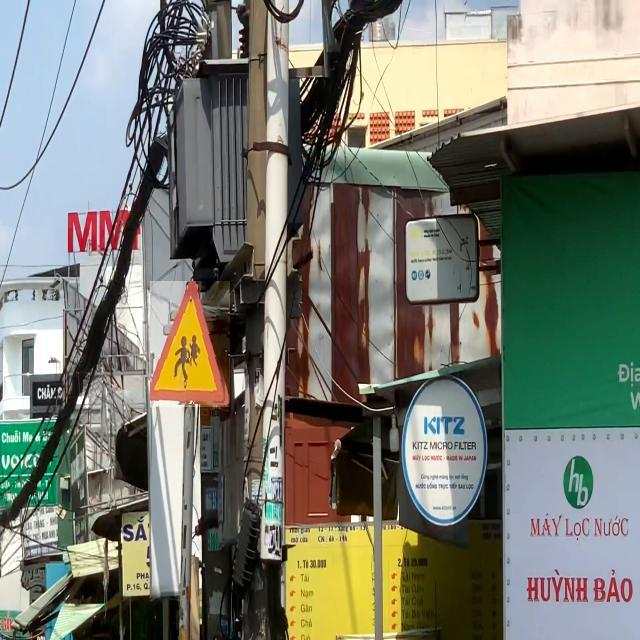W-225: (150, 282, 230, 408)
